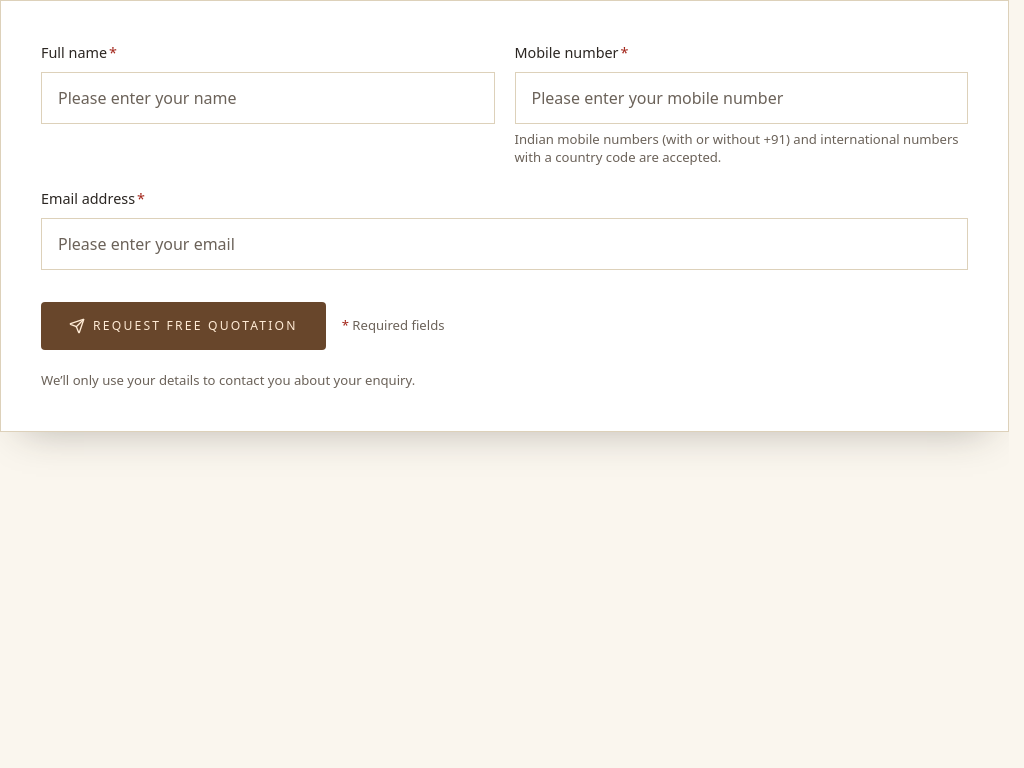
it: client-side validation › blocks an empty form and names all three required fields
Click the button "Request free quotation".
click(183, 326)  # box [41, 302, 326, 350]
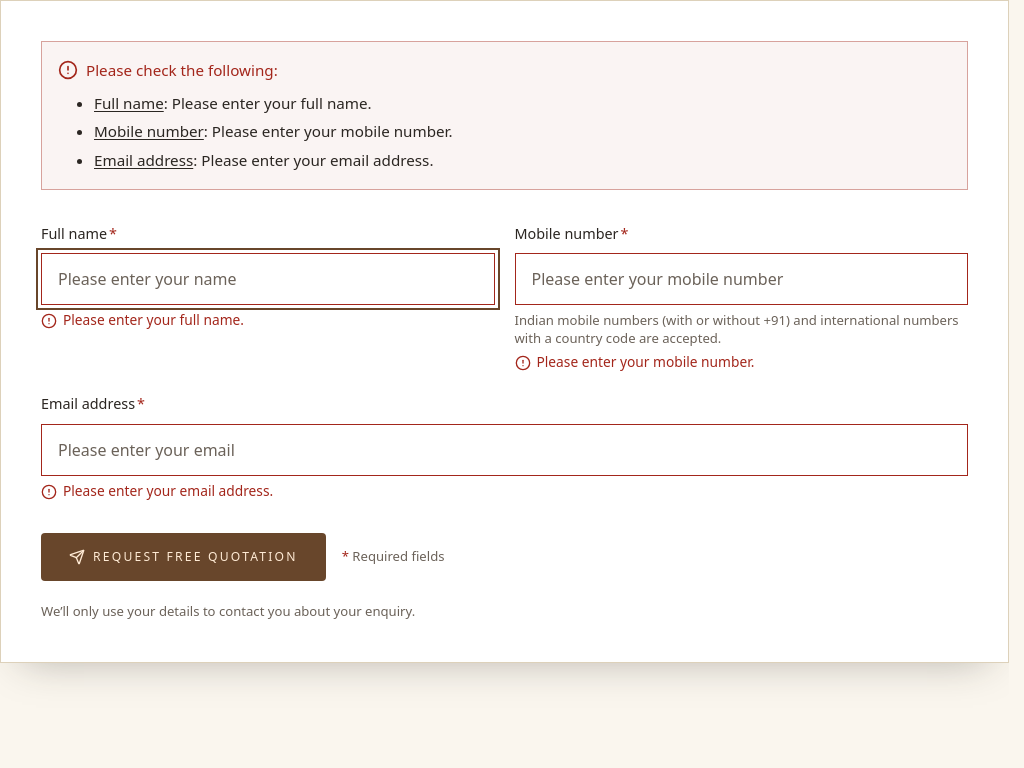
Expected: the message with test id "error-summary" shows "Full name", [94, 93, 164, 113]
Expected: the message with test id "error-summary" shows "Mobile number", [94, 121, 204, 141]
Expected: the message with test id "error-summary" shows "Email address", [94, 150, 193, 170]
